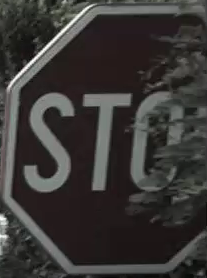Stop: (13, 14, 199, 262)
